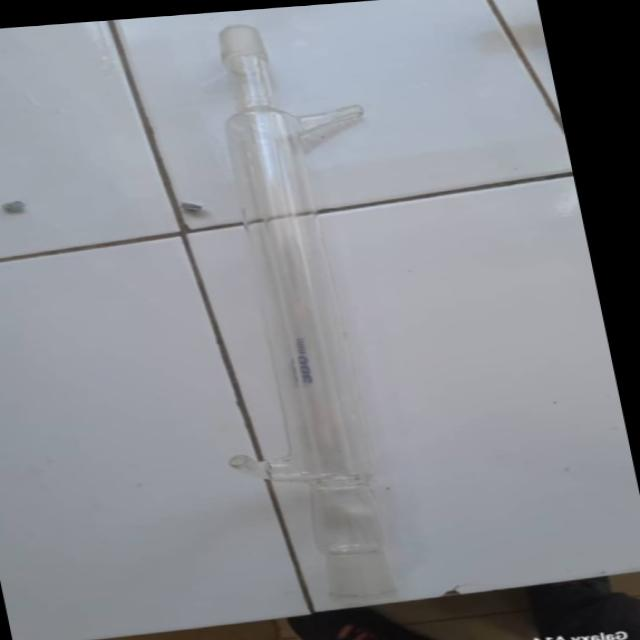Distillation: (121, 12, 487, 620)
